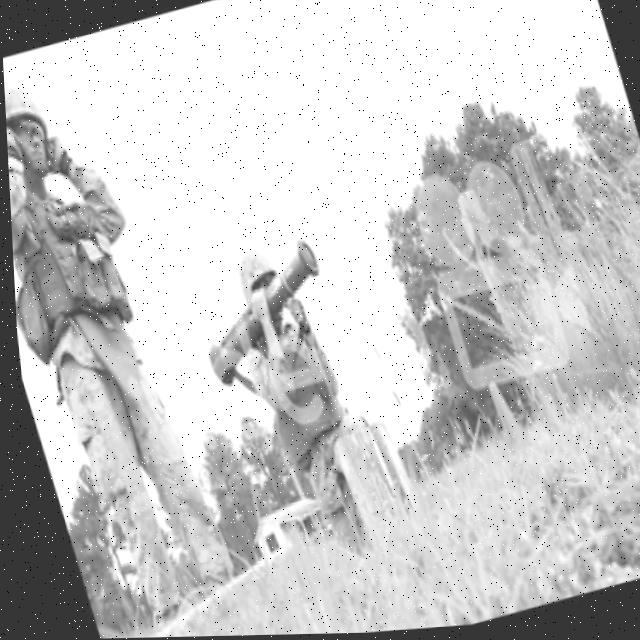rocket: (177, 235, 350, 408)
